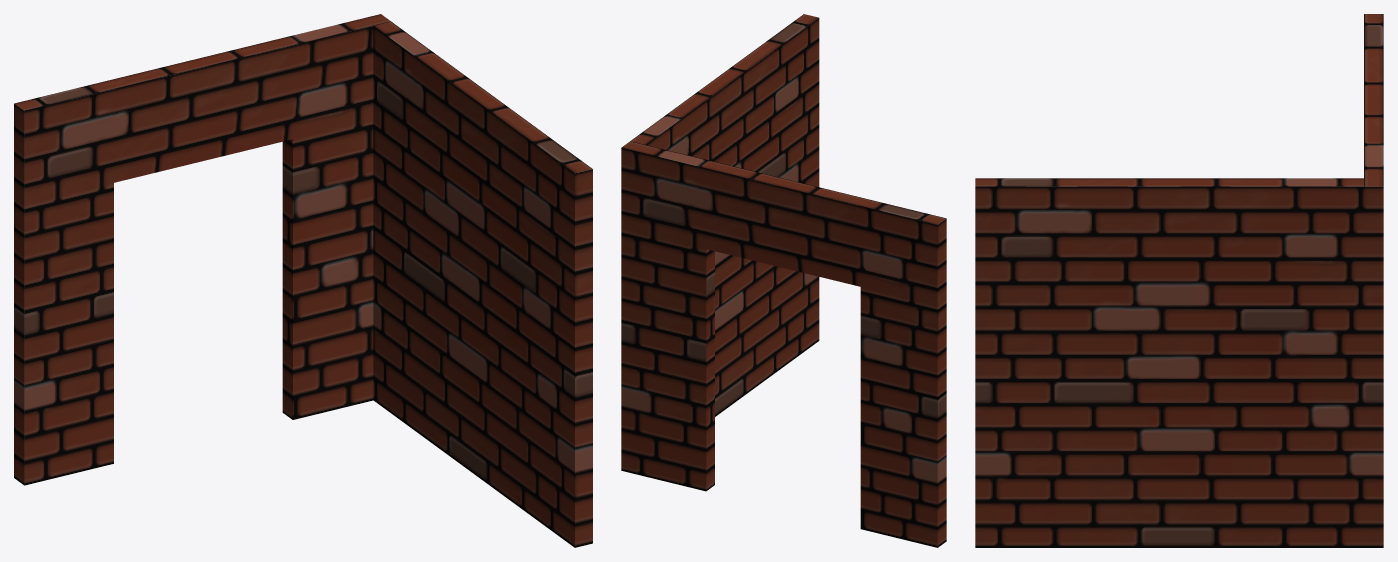
File: Wall_1_Corner_B.fbx
3 views of the same model, side by side, from view 1: azimuth 30°, elevation 25°; view 2: azimuth 150°, elevation 25°; view 3: azimuth 270°, elevation 25° (orthographic). The views are drawn at different scales.
Parts seen in each view (by area): view 1: polySurface5; view 2: polySurface5; view 3: polySurface5.
Boxes of the visible parts, x1,y1,x2,y2 form: polySurface5: (14,14,592,547); polySurface5: (621,14,946,547); polySurface5: (975,14,1383,547).
Size of the model in its own units: 4.1 by 4 by 4.1.
